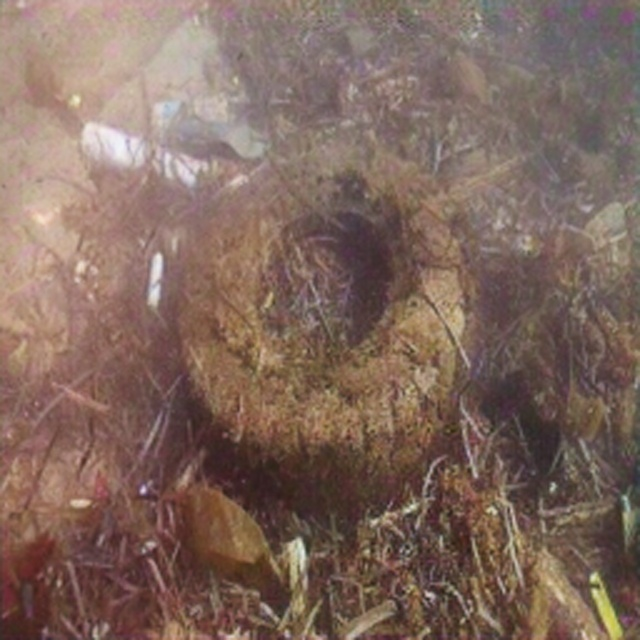mine: (173, 143, 479, 520)
